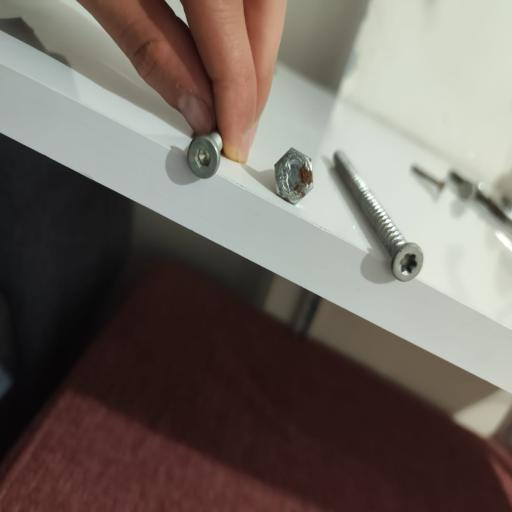Hex-Allen: (274, 145, 314, 208), (184, 134, 223, 178)
Torx: (390, 240, 426, 285)
